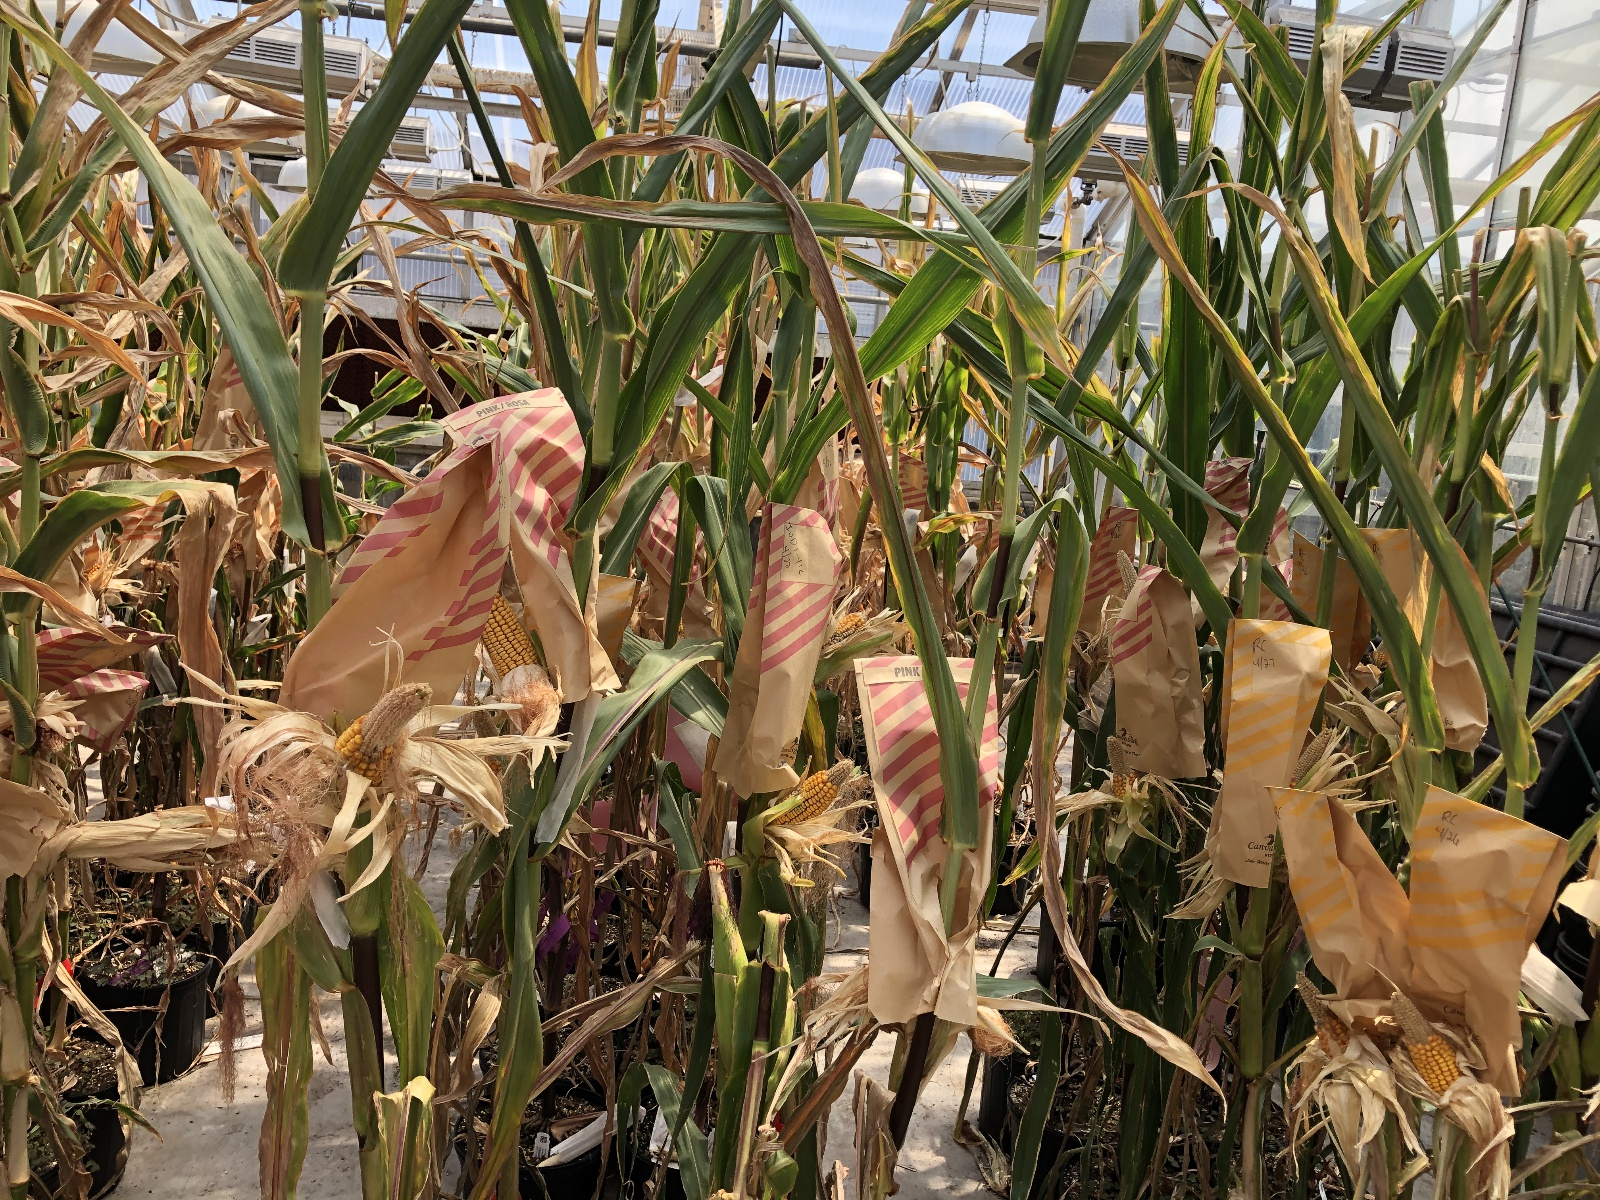ear: (1388, 986, 1485, 1107), (336, 682, 437, 782), (456, 570, 547, 678), (1288, 967, 1369, 1070), (761, 751, 866, 829), (1100, 729, 1153, 807), (1290, 724, 1334, 789), (820, 603, 876, 647)
